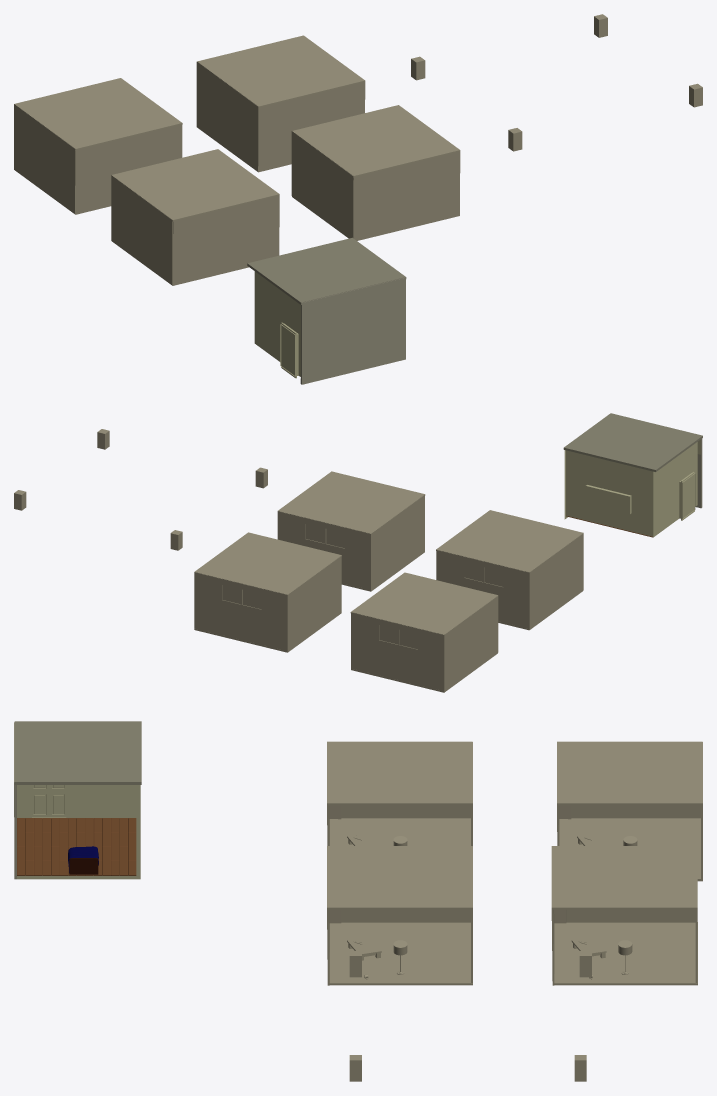
The picture shows the model from 3 angles, top to bottom: view 1: azimuth 30°, elevation 25°; view 2: azimuth 150°, elevation 25°; view 3: azimuth 270°, elevation 25°; orthographic projection. The views are drawn at different scales.
Parts seen in each view (by area): view 1: Plane.005, Plane.003, Plane.008, Plane.006, Plane.004, Plane.001, Cube, Cube.002; view 2: Plane.008, Plane.006, Plane.003, Plane.005, Cube, Plane.001, Cube.002; view 3: Plane.006, Plane.005, Plane.008, Plane.003, Plane.001, Plane.002, Cube, Cube.002.
Part boxes in pixels (box(x1,y1,x2,y2)): Plane.005: box(291, 83, 702, 240); Plane.003: box(111, 128, 522, 285); Plane.008: box(14, 56, 425, 214); Plane.006: box(196, 14, 607, 172); Plane.004: box(300, 277, 405, 384); Plane.001: box(247, 237, 406, 304); Cube: box(254, 271, 300, 376); Cube.002: box(281, 322, 296, 378); Plane.008: box(170, 530, 498, 692); Plane.006: box(14, 490, 341, 652); Plane.003: box(255, 467, 583, 630); Plane.005: box(97, 429, 425, 591); Cube: box(564, 439, 700, 537); Plane.001: box(563, 413, 702, 471); Cube.002: box(681, 472, 694, 520); Plane.006: box(551, 846, 697, 1081); Plane.005: box(327, 846, 472, 1081); Plane.008: box(557, 741, 702, 977); Plane.003: box(327, 741, 472, 977); Plane.001: box(14, 721, 141, 784); Plane.002: box(17, 818, 136, 875); Cube: box(17, 785, 140, 879); Cube.002: box(32, 785, 66, 817).
Size of the model in its own units: 12301 by 1784 by 11415.
